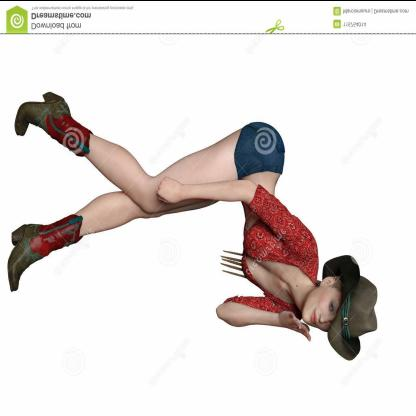hat: (320, 252, 380, 362)
